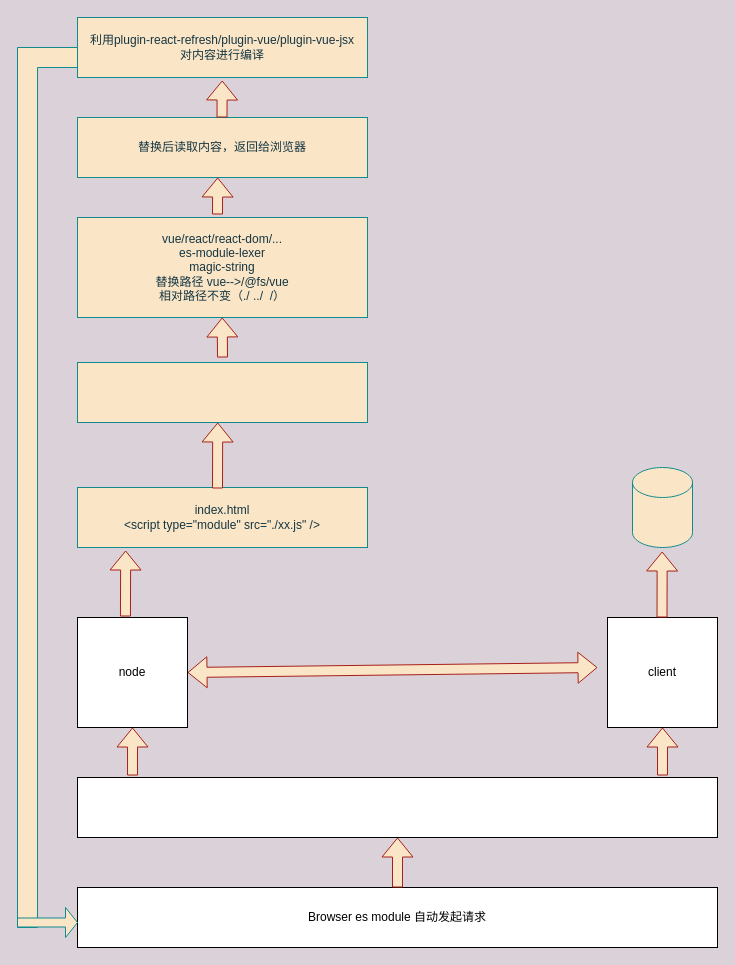
This 735x965 diagram has some shape labels left out. Each missing label, with the centre of its shape:
"HMR" belongs at (662,507).
"Http Server Ws Server" belongs at (397,807).
"分析其他资源 import xxx from 'xxxx'" belongs at (222,392).
